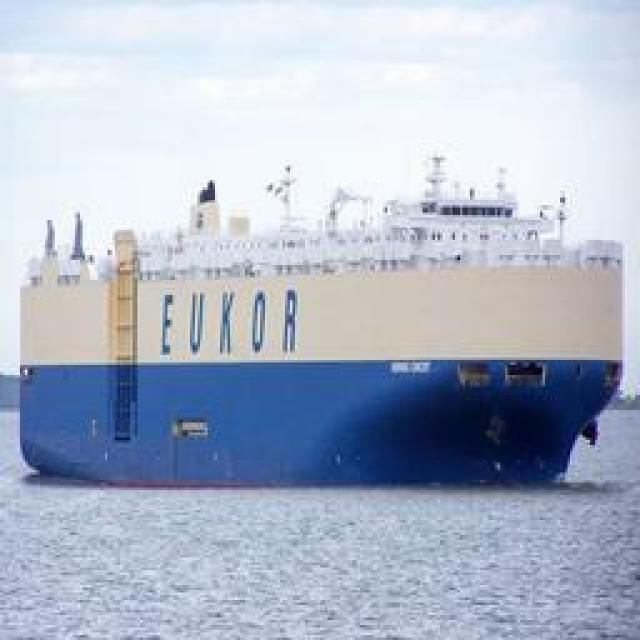CIV_Ship: (25, 114, 623, 492)
